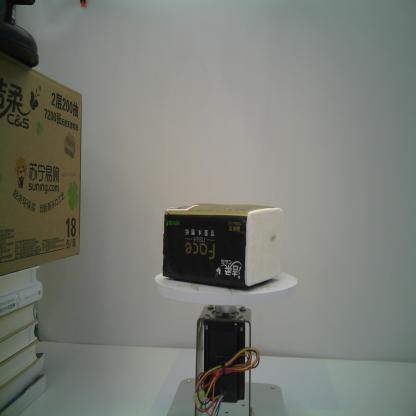Tissue: (160, 200, 285, 286)
